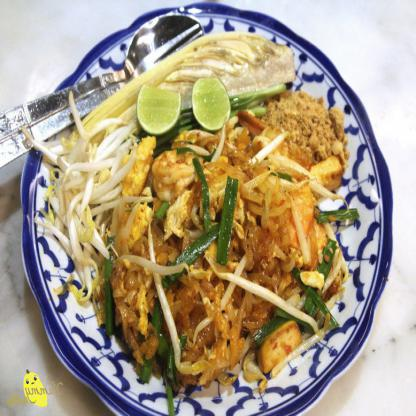Namprig: (42, 45, 354, 385)
